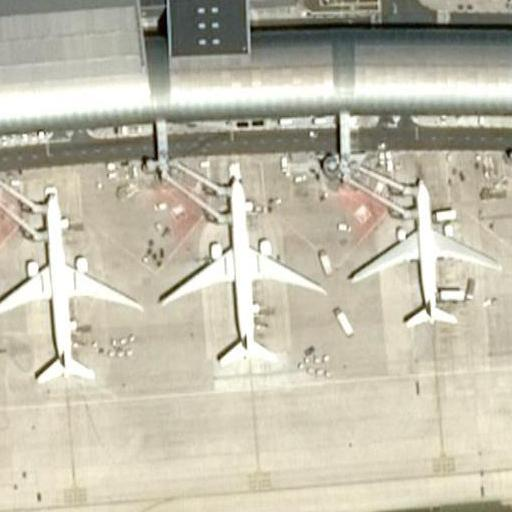Aircraft: (162, 174, 325, 370), (0, 189, 144, 386), (345, 170, 500, 329)
